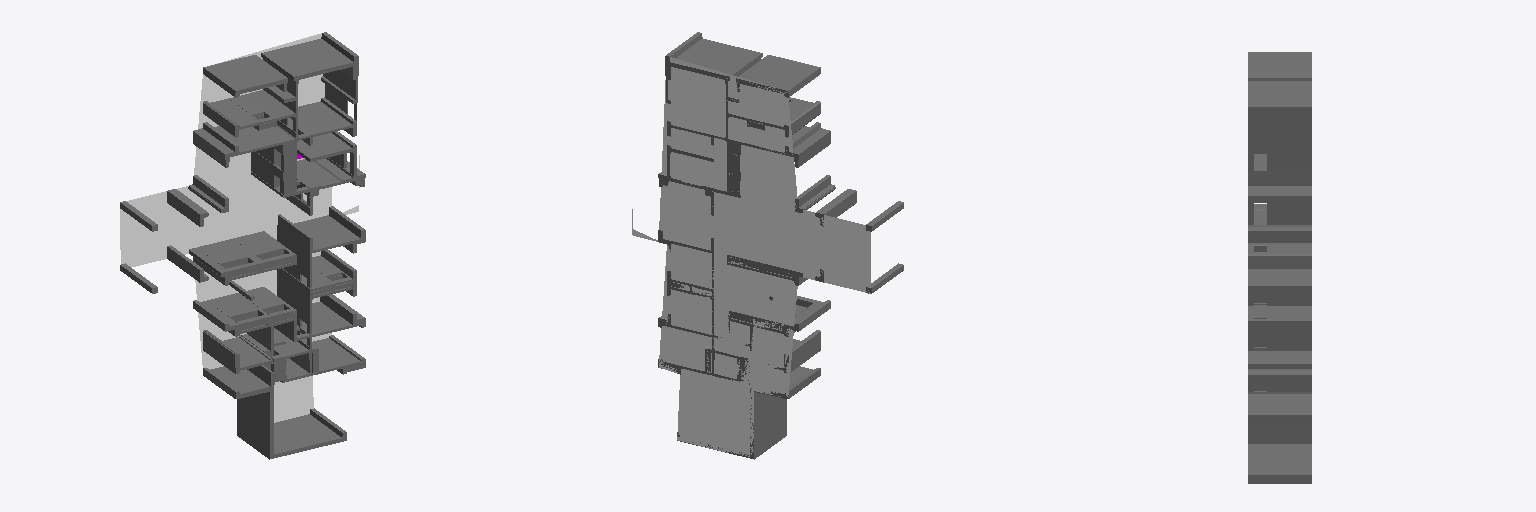
Rendered from 1629eefb-a8fc-41eb-a164-fb18a0901423.obj.
The picture shows the model from 3 angles: view 1: azimuth 30°, elevation 25°; view 2: azimuth 150°, elevation 25°; view 3: azimuth 270°, elevation 25°; orthographic projection.
Parts seen in each view (by area): view 1: Floor, Box8Wall170, Box13Wall241, Box10Wall204, Box13Wall246, Box3Wall55, Box6Wall118, Box4Wall87, Box3Wall58, Box14Wall281, Box7Wall139, VertWalls27 (+14 smaller); view 2: Floor, Box13Wall241, Box8Wall170, Box10Wall204, VertWalls16, Box12Wall224, VertWalls28; view 3: Box8Wall167, Box13Wall246, Box10Wall204, Box4Wall72, Box8Wall170, Box13Wall247, Box7Wall139, Box32Wall130, Box3Wall55, Box6Wall114, Box3Wall52, Box3Wall56 (+6 smaller).
Part boxes in pixels (x1,y1,x2,y2): Floor: (120, 33, 359, 422); Box8Wall170: (262, 39, 352, 76); Box13Wall241: (237, 392, 269, 459); Box10Wall204: (203, 55, 286, 90); Box13Wall246: (274, 414, 341, 453); Box3Wall55: (294, 215, 360, 250); Box6Wall118: (288, 102, 351, 135); Box4Wall87: (277, 268, 309, 325); Box3Wall58: (277, 215, 309, 279); Box14Wall281: (214, 126, 293, 152); Box7Wall139: (312, 338, 360, 370); VertWalls27: (236, 373, 346, 458); Floor: (632, 57, 870, 457); Box13Wall241: (754, 392, 786, 459); Box8Wall170: (675, 39, 761, 74); Box10Wall204: (738, 55, 820, 90); VertWalls16: (665, 56, 749, 126); Box12Wall224: (790, 332, 820, 372); VertWalls28: (725, 132, 798, 197); Box8Wall167: (1248, 107, 1311, 153); Box13Wall246: (1248, 444, 1311, 472); Box10Wall204: (1248, 52, 1311, 77); Box4Wall72: (1248, 321, 1311, 345); Box8Wall170: (1248, 81, 1311, 104); Box13Wall247: (1248, 424, 1311, 443); Box7Wall139: (1248, 394, 1311, 412); Box32Wall130: (1267, 203, 1311, 224); Box3Wall55: (1248, 269, 1311, 283); Box6Wall114: (1248, 171, 1311, 185); Box3Wall52: (1248, 286, 1311, 298); Box3Wall56: (1248, 256, 1311, 268).
Bounding box in the file's own units: 10.66 × 16.24 × 2.5.